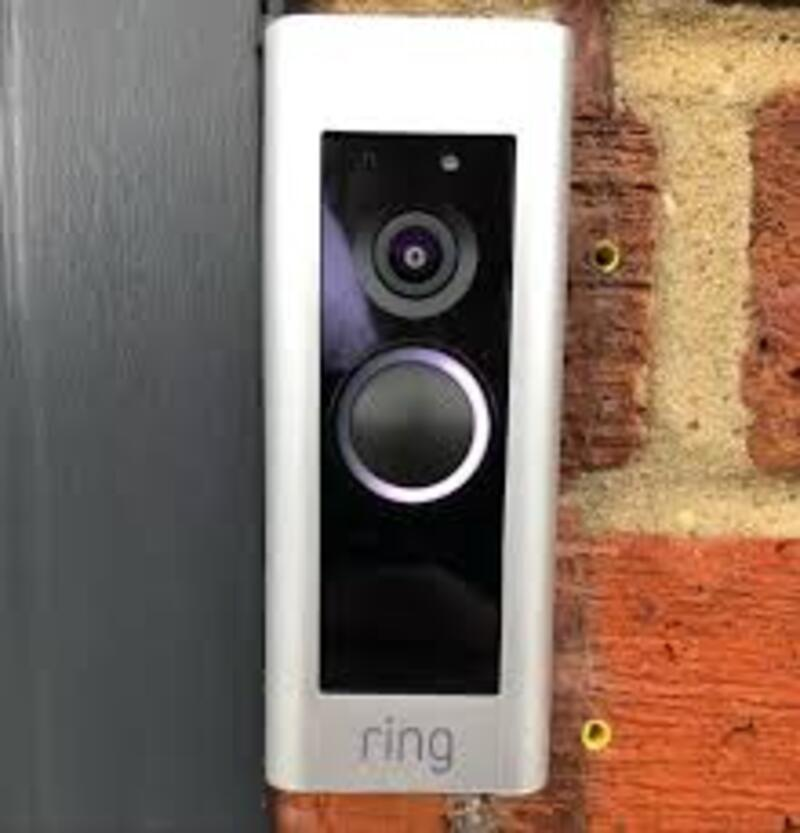doorbell: (299, 117, 523, 709)
